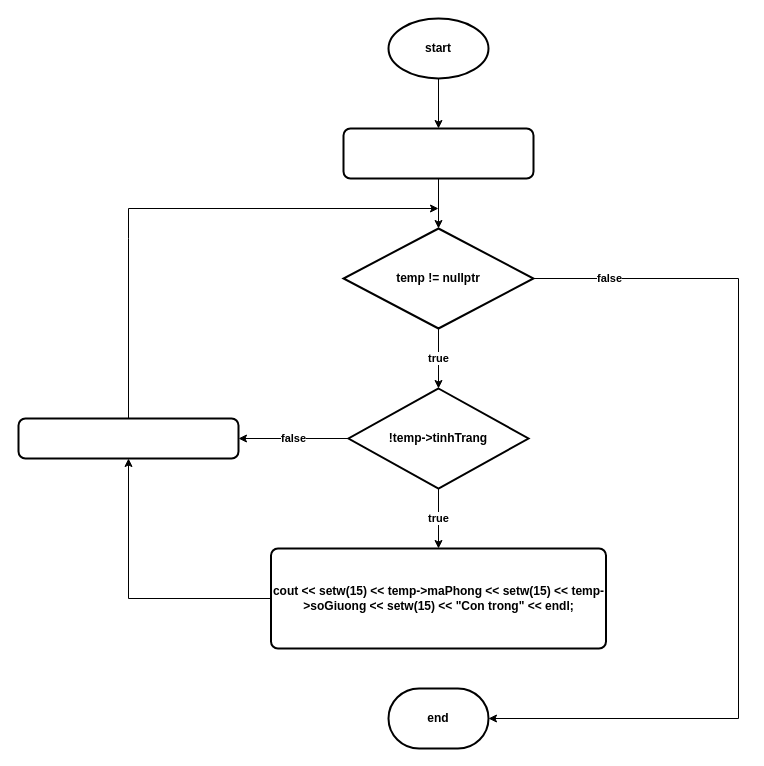
Some shapes in this 764 by 766 pixel diagram are drawn without their labels. The shapes that lost their labels are listed below. From the top down, each one's centre as x and y in pixels, then its label:
the point at 438,153: phong *temp = dsPhong
the point at 128,438: temp = temp->next
